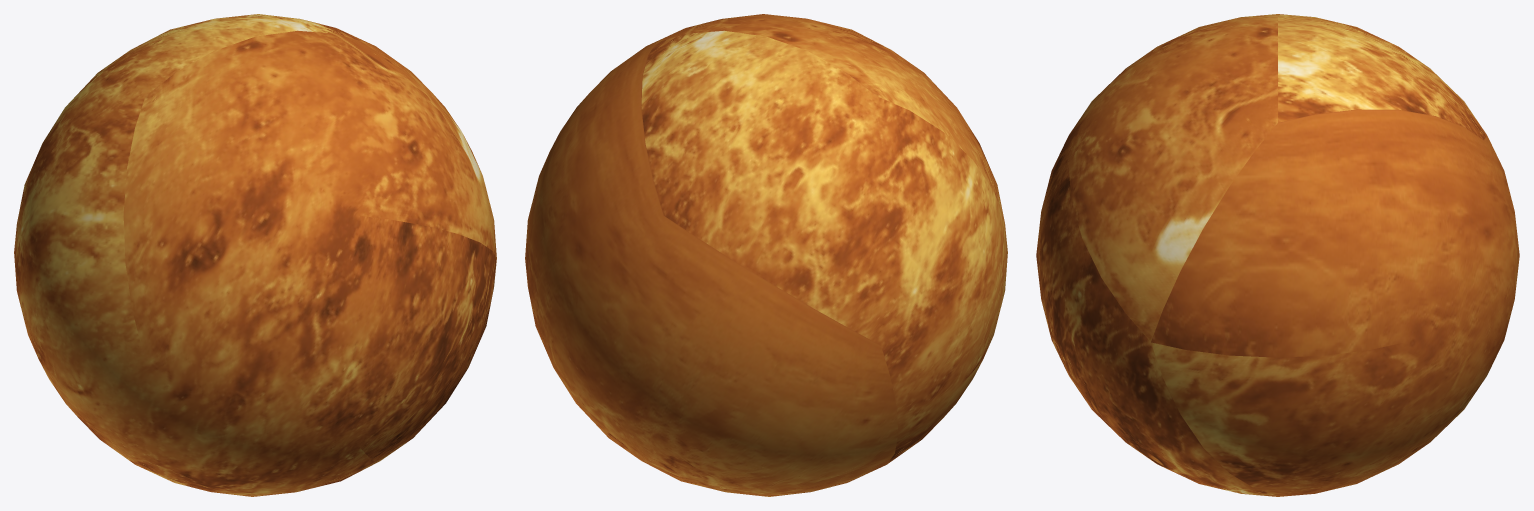
File: venus.glb
The picture shows the model from 3 angles, left to right: view 1: azimuth 30°, elevation 25°; view 2: azimuth 150°, elevation 25°; view 3: azimuth 270°, elevation 25°; orthographic projection.
Visible parts, largest first — view 1: Sphere; view 2: Sphere; view 3: Sphere.
Part boxes in pixels (x1=…): Sphere: x1=14, y1=14, x2=496, y2=496; Sphere: x1=525, y1=14, x2=1007, y2=496; Sphere: x1=1036, y1=14, x2=1519, y2=496.
Bounding box in the file's own units: 200 × 200 × 200.
1 material, 1 textured.
